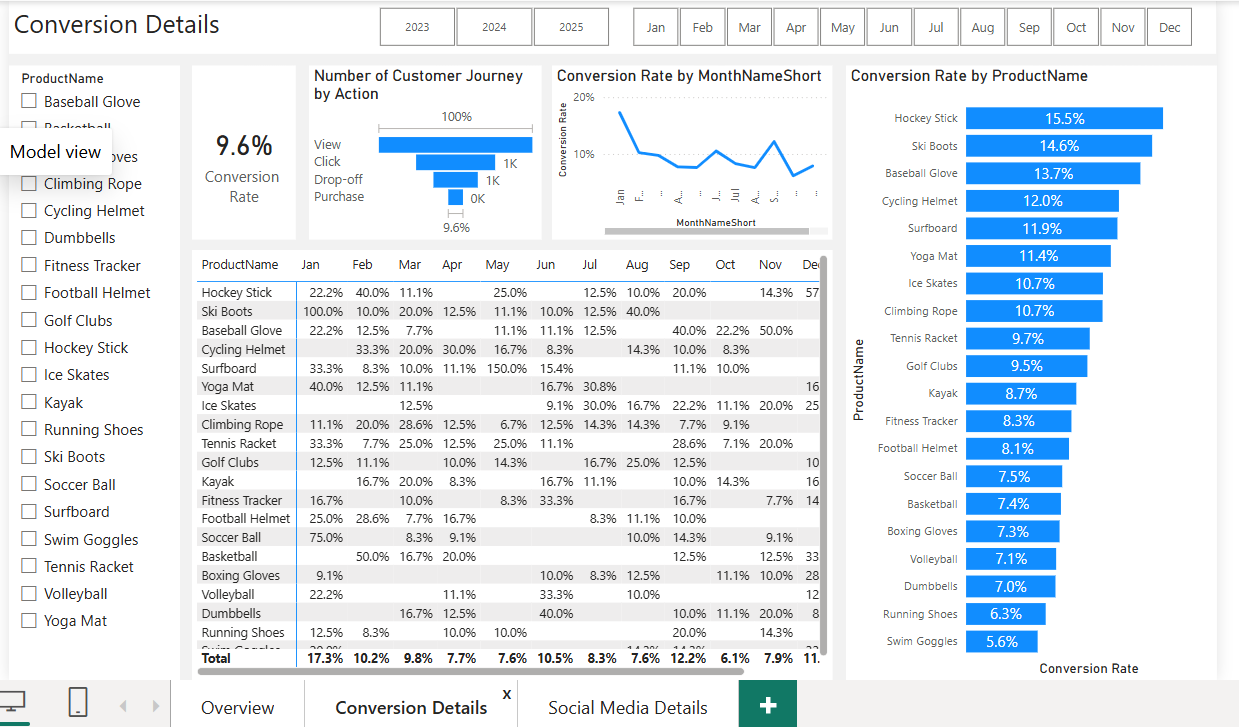

This screenshot's page, from the dashboard's own definition file:
{"tool":"powerbi","page":{"name":"Conversion Details","canvas":[1280,720],"ordinal":1},"visuals":[{"type":"textbox","box":[0,0,1280,55.7],"z":0},{"type":"slicer","fields":{"Values":["dim_products.ProductName"]},"box":[0,68.4,181.3,652.2],"z":1000},{"type":"card","fields":{"Values":["_Calculations.Conversion Rate"]},"box":[194.1,68.4,109.8,184.5],"z":2000},{"type":"slicer","fields":{"Values":["Calendar.Year"]},"box":[367.4,0,292.7,54.1],"z":3000},{"type":"slicer","fields":{"Values":["Calendar.MonthNameShort"]},"box":[636.8,0,642.1,54.1],"z":4000},{"type":"lineChart","fields":{"Y":["_Calculations.Conversion Rate"],"Category":["Calendar.MonthNameShort"]},"box":[575.8,68.4,297.4,184.5],"z":5000},{"type":"clusteredBarChart","fields":{"Y":["_Calculations.Conversion Rate"],"Category":["dim_products.ProductName"]},"box":[888.2,68,393.1,652],"z":6000},{"type":"pivotTable","fields":{"Values":["_Calculations.Conversion Rate"],"Rows":["dim_products.ProductName"],"Columns":["Calendar.MonthNameShort"]},"box":[194.1,264,679.2,456.5],"z":7000},{"type":"funnel","fields":{"Category":["fact_customer_journey.Action"],"Y":["_Calculations.Number of Customer Journey"]},"box":[318.1,68.4,246.5,184.5],"z":8000}]}

Visuals, with their boxes on the page's 1280x720 design canvas (x1, y1, x2, y2). These are canvas units, not pixel positions in the 1239x727 screenshot, which may show the page scaled, cropped or inside an application window:
textbox: {"x1": 0, "y1": 0, "x2": 1280, "y2": 56}
slicer - dim_products.ProductName: {"x1": 0, "y1": 68, "x2": 181, "y2": 721}
card - _Calculations.Conversion Rate: {"x1": 194, "y1": 68, "x2": 304, "y2": 253}
slicer - Calendar.Year: {"x1": 367, "y1": 0, "x2": 660, "y2": 54}
slicer - Calendar.MonthNameShort: {"x1": 637, "y1": 0, "x2": 1279, "y2": 54}
lineChart - _Calculations.Conversion Rate x Calendar.MonthNameShort: {"x1": 576, "y1": 68, "x2": 873, "y2": 253}
clusteredBarChart - _Calculations.Conversion Rate x dim_products.ProductName: {"x1": 888, "y1": 68, "x2": 1281, "y2": 720}
pivotTable - _Calculations.Conversion Rate x dim_products.ProductName: {"x1": 194, "y1": 264, "x2": 873, "y2": 720}
funnel - fact_customer_journey.Action x _Calculations.Number of Customer Journey: {"x1": 318, "y1": 68, "x2": 565, "y2": 253}
